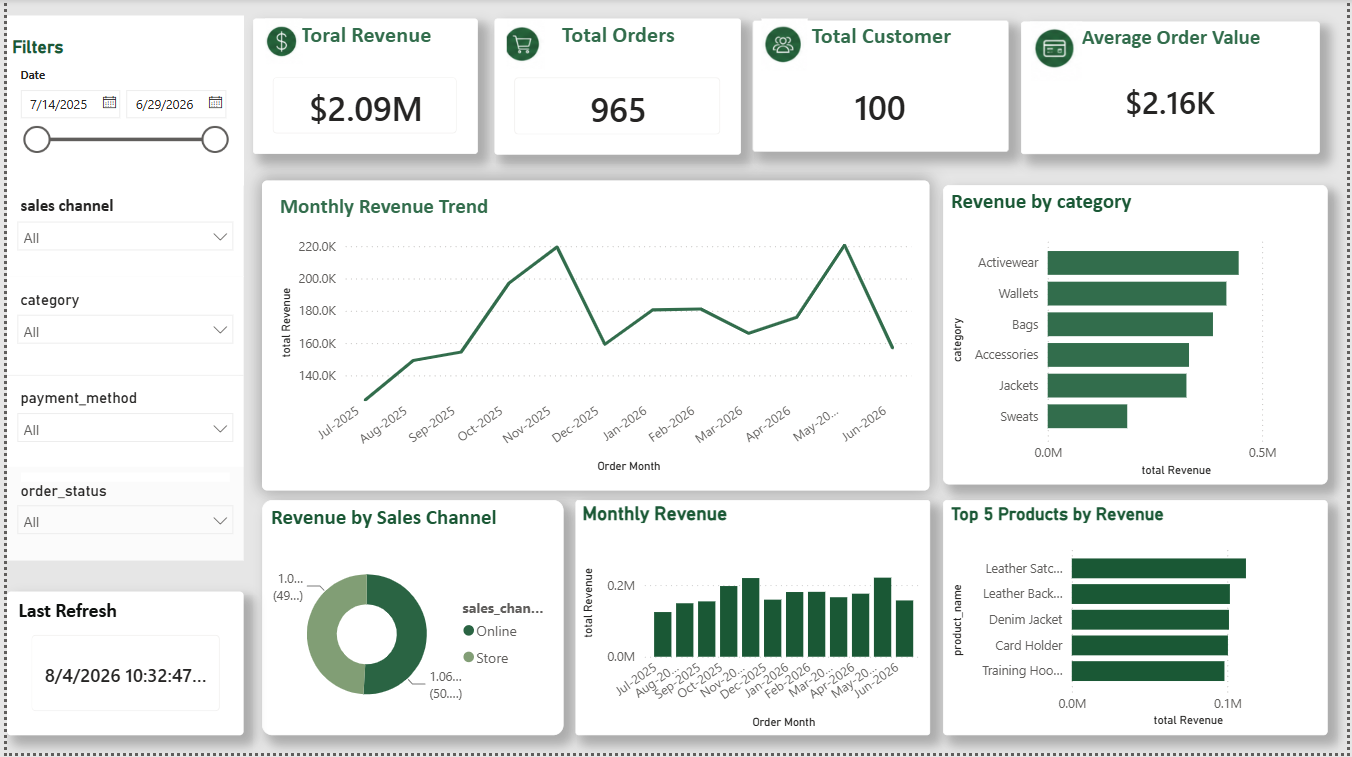

Layout of this report page (visuals, bound fields, positions):
{"tool":"powerbi","page":{"name":"Executive Overvi","canvas":[1280,720],"ordinal":0},"visuals":[{"type":"cardVisual","title":"Toral Revenue","fields":{"Data":["order_items.total Revenue"]},"box":[235.4,18.5,215,129.4],"z":0},{"type":"cardVisual","title":"Total Orders","fields":{"Data":["orders.Total orders"]},"box":[461.1,18.1,235.5,130.1],"z":1000},{"type":"cardVisual","title":"Average Order Value","fields":{"Data":["orders.Average Order Value"]},"box":[967.8,21.4,285.4,126.9],"z":2000,"group":"g1"},{"type":"lineChart","title":"Monthly Revenue Trend","fields":{"Category":["orders.Order Month"],"Y":["order_items.total Revenue"]},"box":[243.4,173.4,637.1,295.7],"z":2000},{"type":"barChart","title":" Revenue by category","fields":{"Category":["products.category"],"Y":["order_items.total Revenue"]},"box":[893.9,178,367.7,286],"z":3000},{"type":"donutChart","title":"Revenue by Sales Channel ","fields":{"Category":["orders.sales_channel"],"Y":["order_items.total Revenue"]},"box":[235.4,478.5,291.8,224.7],"z":4000},{"type":"cardVisual","title":"Total Customer","fields":{"Data":["CountNonNull(customers.Total Customers 1)"]},"box":[711.4,21.4,227.2,126.8],"z":5000},{"type":"clusteredColumnChart","title":"Monthly Revenue","fields":{"Category":["orders.Order Month"],"Y":["order_items.total Revenue"]},"box":[542.7,478.5,338.5,224.7],"z":6000},{"type":"slicer","title":"Filters","fields":{"Values":["orders.order_date"]},"box":[0,15.9,225.9,162.2],"z":7000},{"type":"slicer","fields":{"Values":["products.category"]},"box":[0,265.6,225.9,93.8],"z":8000},{"type":"slicer","fields":{"Values":["orders.payment_method"]},"box":[0,359.5,225.9,87.5],"z":9000},{"type":"slicer","fields":{"Values":["orders.order_status"]},"box":[0,447,225.9,89.1],"z":10000},{"type":"clusteredBarChart","title":"Top 5 Products by Revenue","fields":{"Category":["products.product_name"],"Y":["order_items.total Revenue"]},"box":[893.9,478.5,367.7,224.7],"z":11000},{"type":"cardVisual","title":"Last Refresh","fields":{"Data":["Min(Refresh Date.Value)","select"]},"box":[0,547.2,226.6,137.1],"z":12000},{"type":"group","id":"g1","title":"Group 1","box":[967.8,21.4,284,126.4],"z":13000},{"type":"image","box":[974.1,21.4,56.1,57.2],"z":13001,"group":"g1"},{"type":"image","box":[711.4,36.2,62,47.7],"z":14000},{"type":"image","box":[392,18.5,202.3,47.7],"z":15000},{"type":"image","box":[230.5,18.5,67.1,43.8],"z":16000},{"type":"slicer","fields":{"Values":["orders.sales_channel"]},"box":[0,173.4,225.9,92.3],"z":16001}]}

Visuals, with their boxes in screenshot pixels (x1, y1, x2, y2), scaled from the page's 1280x720 canvas onto the 1352x757 screenshot:
"Toral Revenue" cardVisual: x1=249, y1=19, x2=476, y2=156
"Total Orders" cardVisual: x1=487, y1=19, x2=736, y2=156
"Average Order Value" cardVisual: x1=1022, y1=22, x2=1324, y2=156
"Monthly Revenue Trend" lineChart: x1=257, y1=182, x2=930, y2=493
" Revenue by category" barChart: x1=944, y1=187, x2=1333, y2=488
"Revenue by Sales Channel " donutChart: x1=249, y1=503, x2=557, y2=739
"Total Customer" cardVisual: x1=751, y1=22, x2=991, y2=156
"Monthly Revenue" clusteredColumnChart: x1=573, y1=503, x2=931, y2=739
"Filters" slicer: x1=0, y1=17, x2=239, y2=187
slicer - products.category: x1=0, y1=279, x2=239, y2=378
slicer - orders.payment_method: x1=0, y1=378, x2=239, y2=470
slicer - orders.order_status: x1=0, y1=470, x2=239, y2=564
"Top 5 Products by Revenue" clusteredBarChart: x1=944, y1=503, x2=1333, y2=739
"Last Refresh" cardVisual: x1=0, y1=575, x2=239, y2=719
"Group 1" group: x1=1022, y1=22, x2=1322, y2=155
image: x1=1029, y1=22, x2=1088, y2=83
image: x1=751, y1=38, x2=817, y2=88
image: x1=414, y1=19, x2=628, y2=70
image: x1=243, y1=19, x2=314, y2=66
slicer - orders.sales_channel: x1=0, y1=182, x2=239, y2=279
